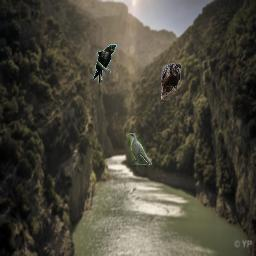Crow: (93, 44, 117, 84), (161, 63, 181, 103)
Cuckoo: (126, 133, 152, 165)
